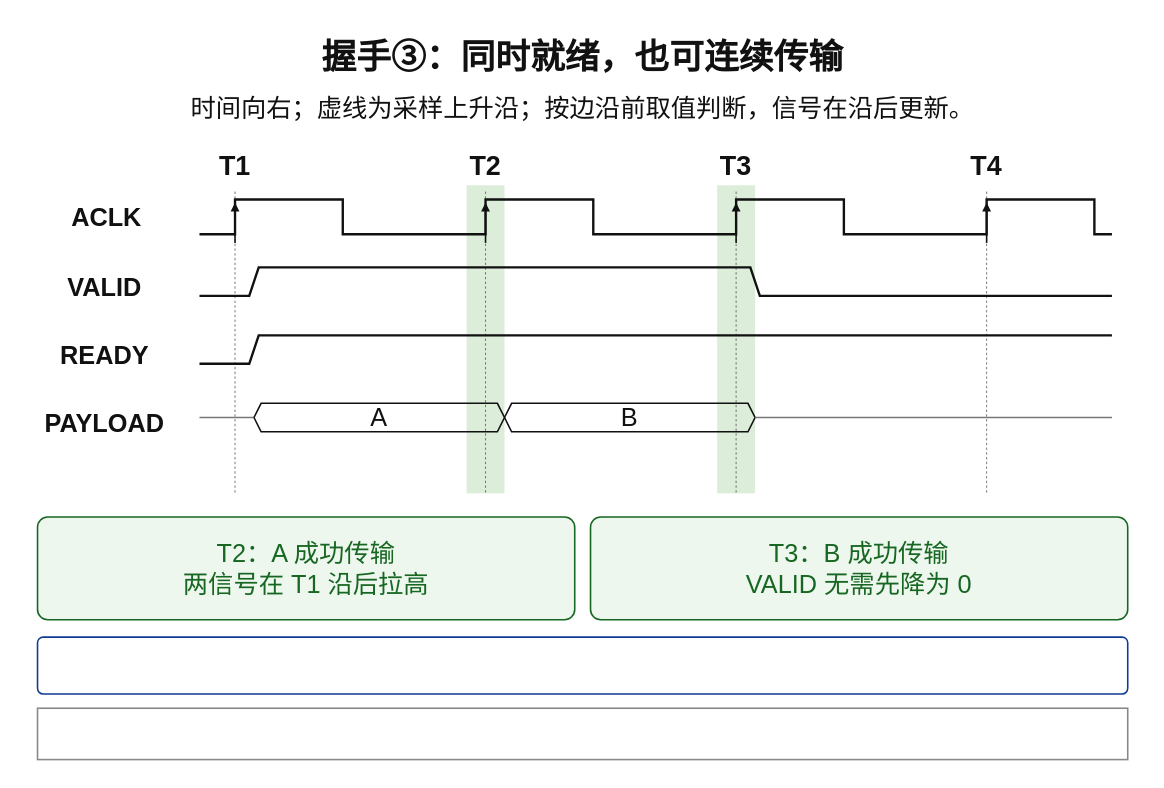
Some shapes in this 1164 by 788 pixel diagram are drawn without their labels. The shapes that lost their labels are listed below. From the top down, each one's centre as x and y in pixels, then its label:
At point (582, 665): "连续两个上升沿 VALID、READY 均为 1，表示两次传输。".
At point (582, 733): "发送方驱动 VALID 与信息；接收方驱动 READY；A、B 是不同载荷。".
